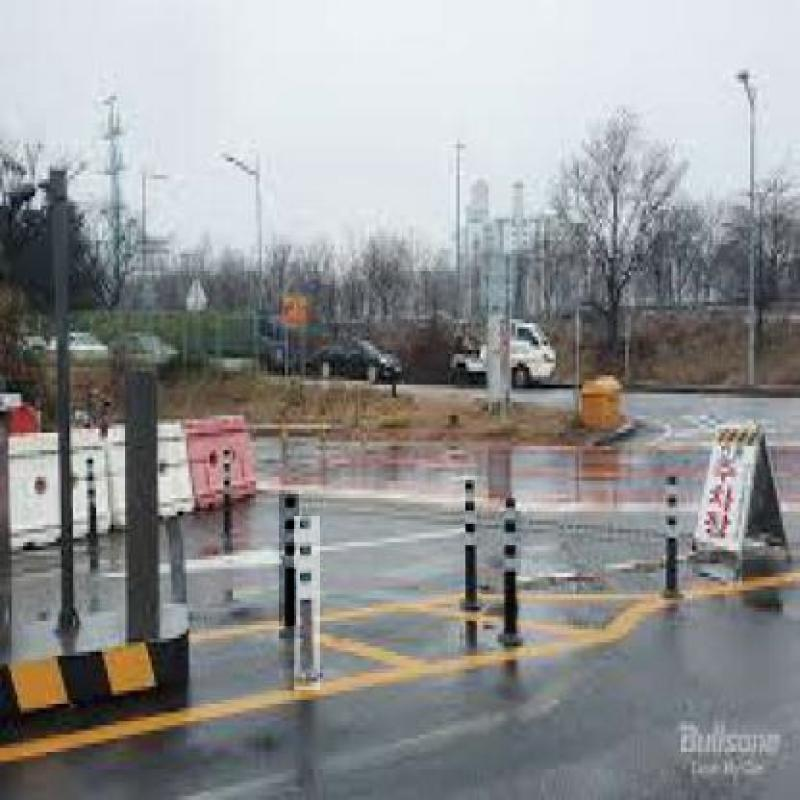bolard: (294, 516, 320, 690), (460, 468, 482, 611), (279, 490, 299, 626), (663, 477, 681, 599), (504, 511, 521, 634)
